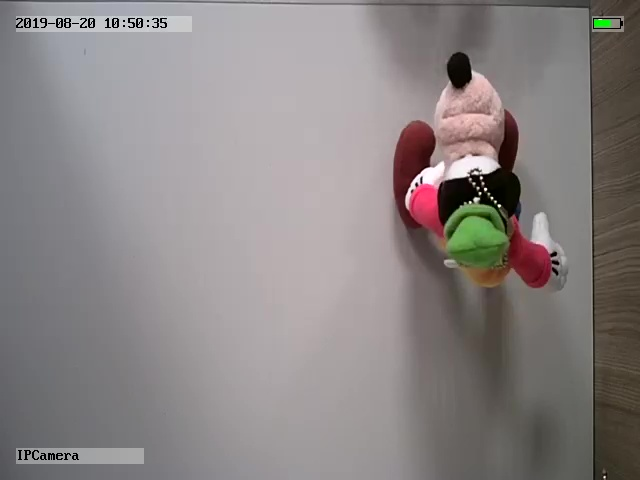goofy: (391, 50, 568, 292)
